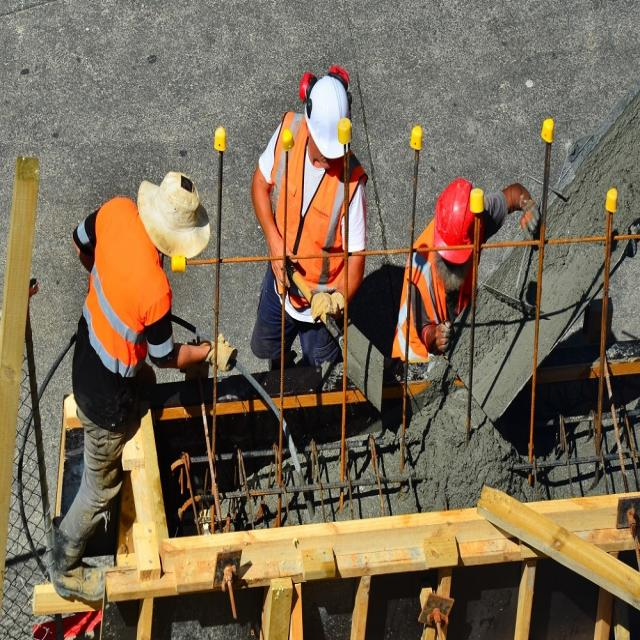Reflective-Jacket: (254, 141, 365, 319), (85, 195, 167, 366)
Safety-Helmet: (304, 70, 354, 158), (431, 174, 480, 262), (468, 184, 486, 218)
